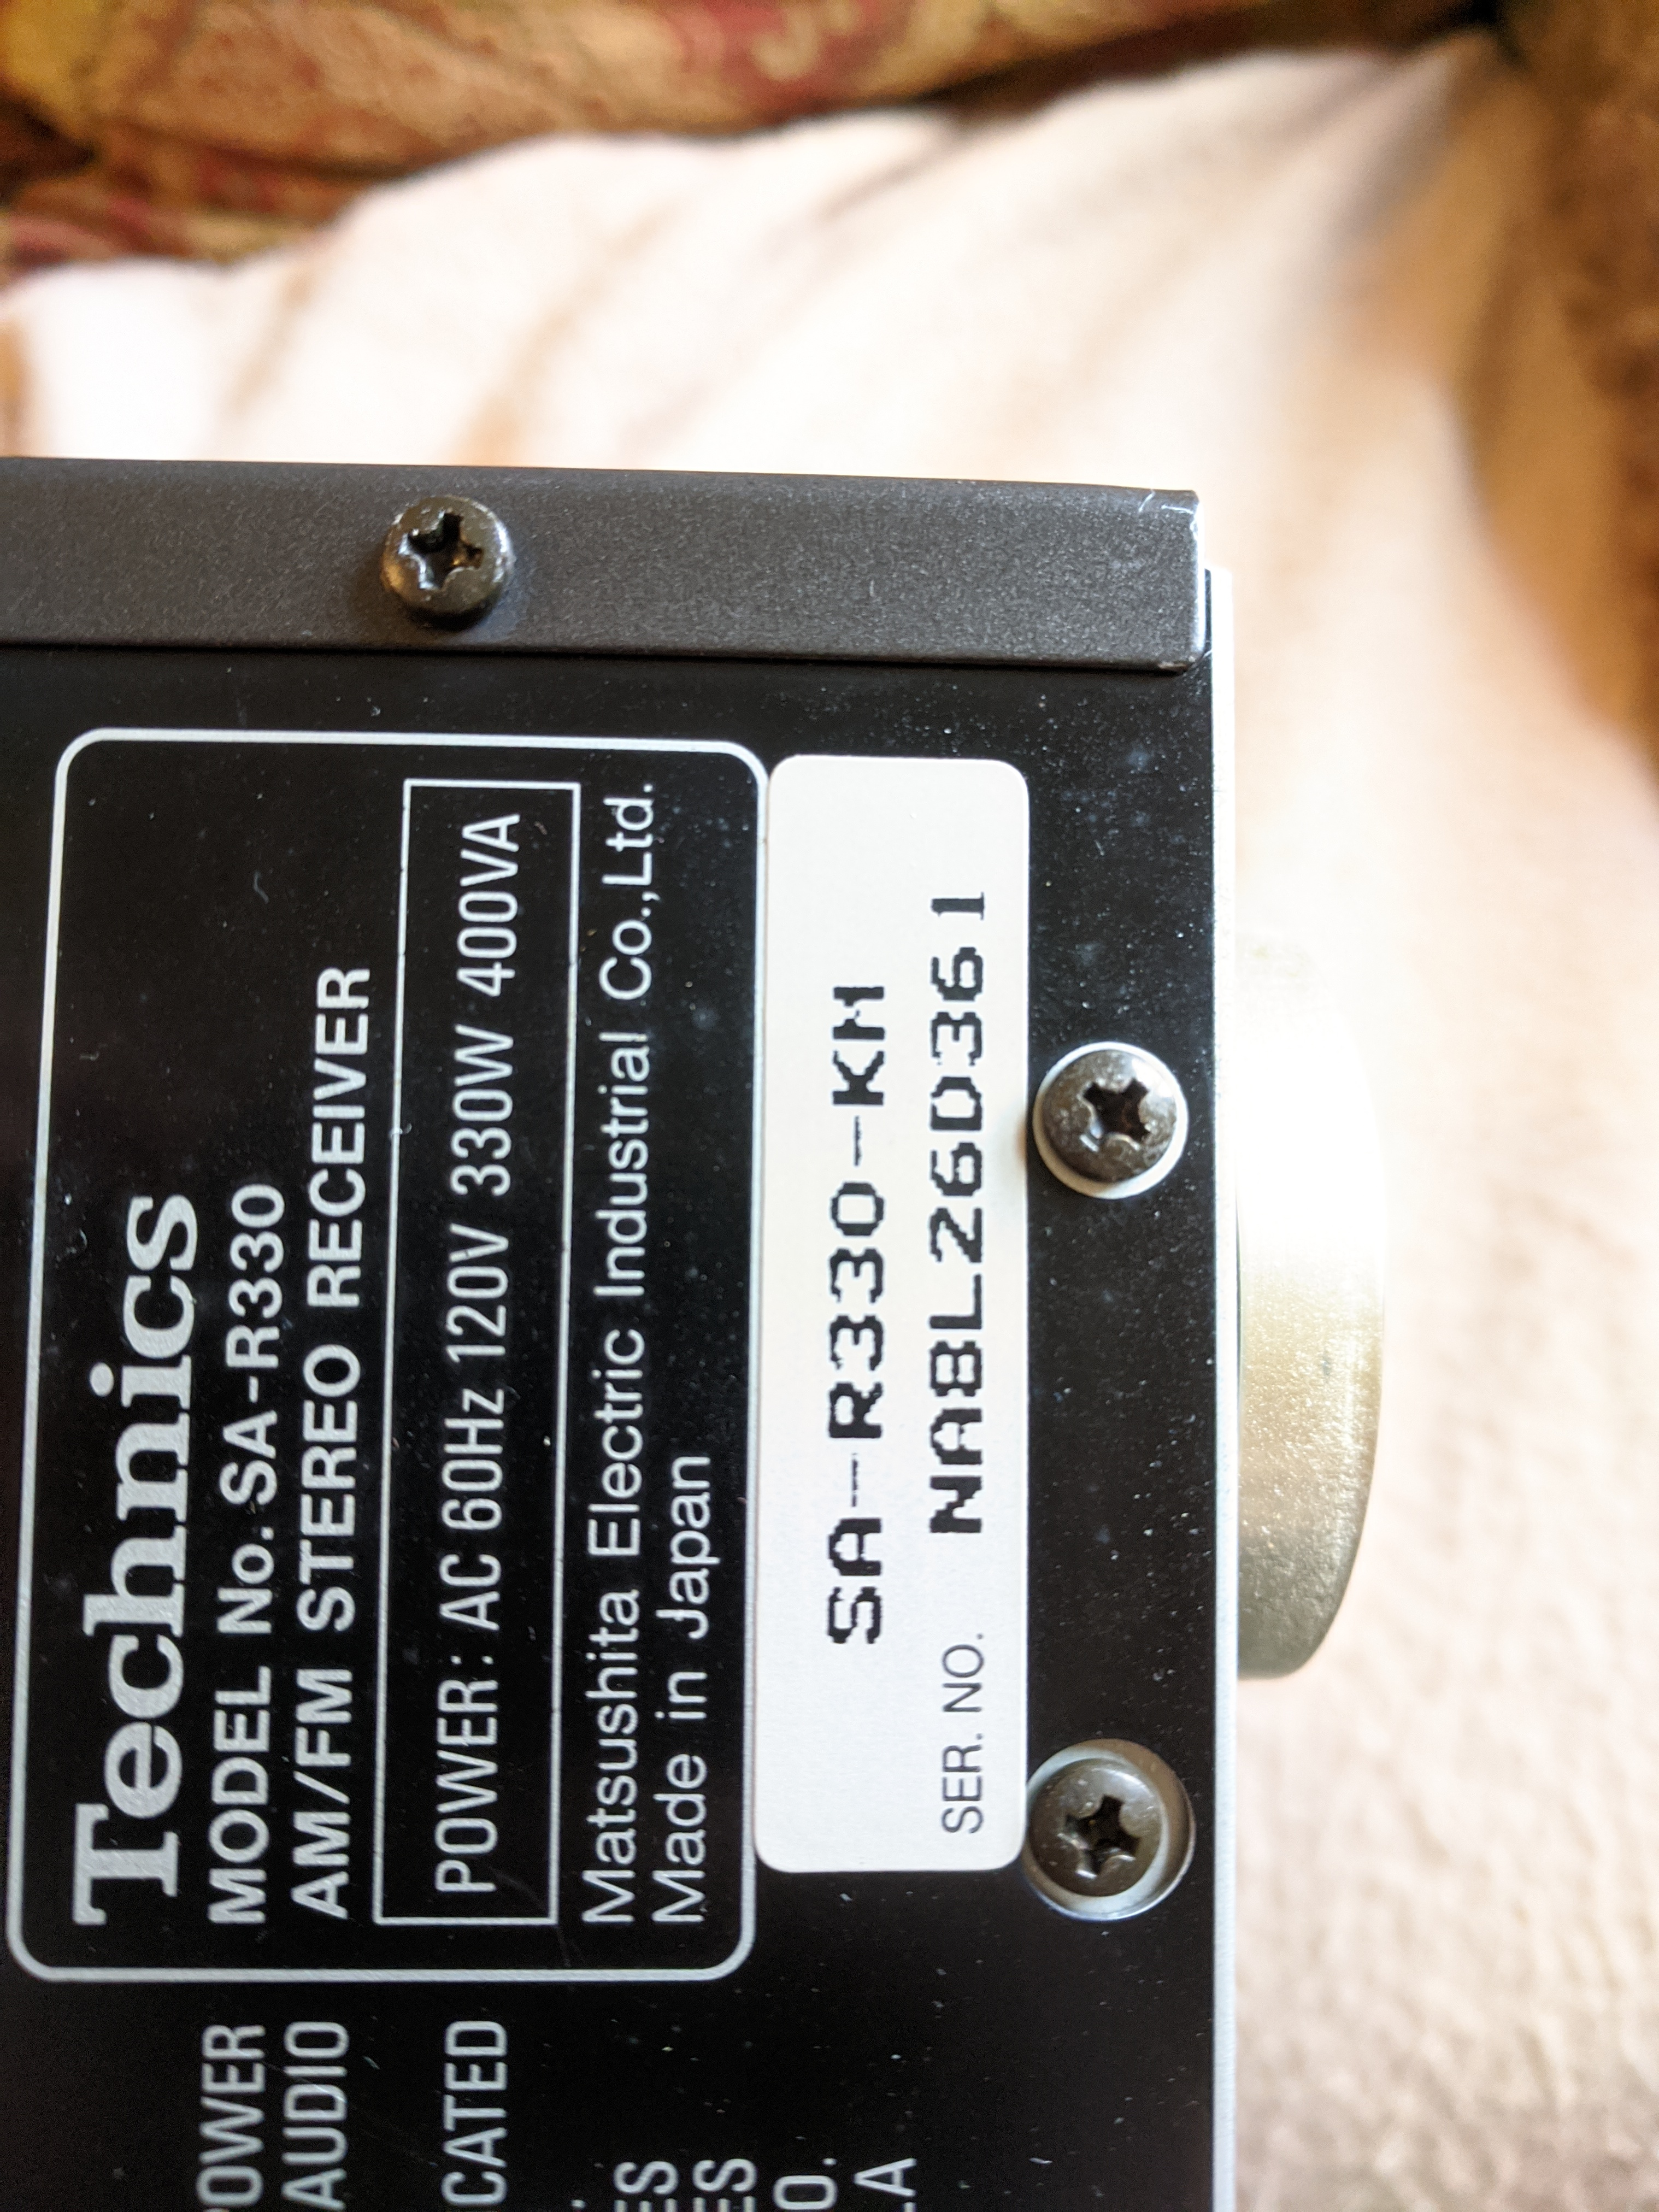cross_recessed_screw: (1030, 1029, 1185, 1186), (1011, 1756, 1169, 1902), (364, 479, 521, 618)
